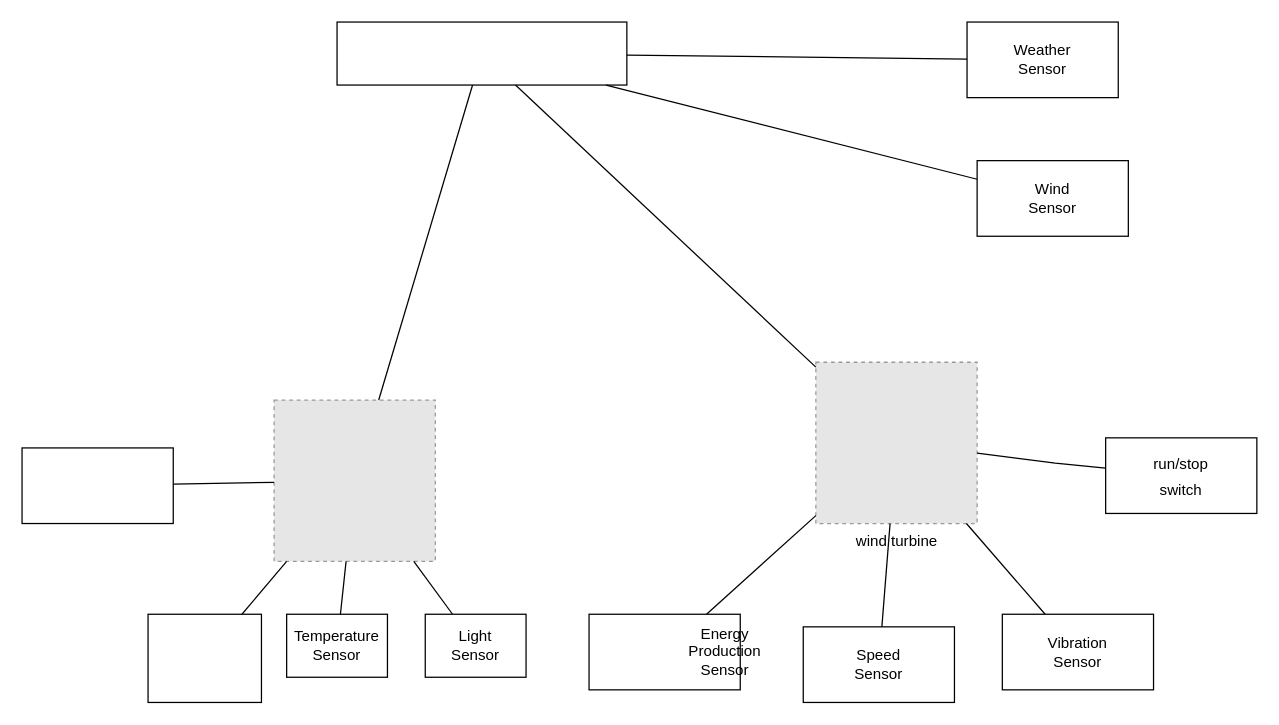
This 1279x725 diagram has some shape labels left out. Grey dashed boxes stand in for pictures. Here are the shapes that lost their labels. From the top down, the box of each, then its label:
(336, 21, 627, 85): Gateway
(21, 447, 173, 524): Shield Switch
(147, 613, 261, 702): Energy Production Sensor
